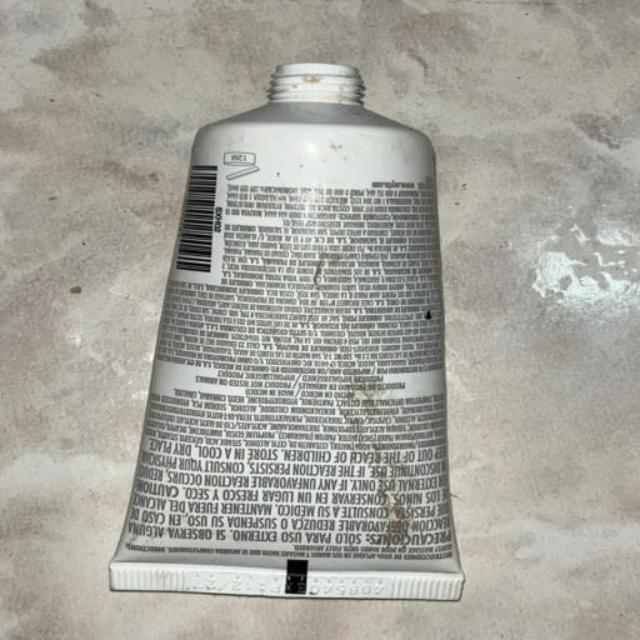HDPE: (31, 36, 549, 589)
